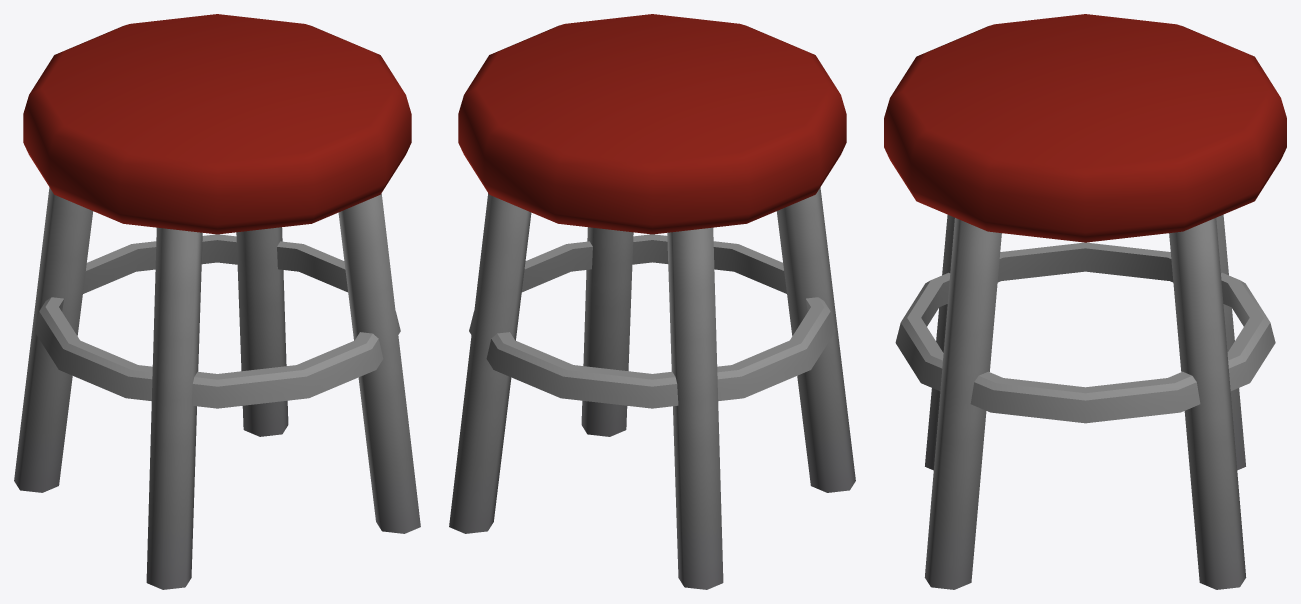
Rendered from Chair_2_F.fbx.
3 views of the same model, side by side, from view 1: azimuth 30°, elevation 25°; view 2: azimuth 150°, elevation 25°; view 3: azimuth 270°, elevation 25° (orthographic). The views are drawn at different scales.
Visible parts, largest first — view 1: Chair_2_F; view 2: Chair_2_F; view 3: Chair_2_F.
Boxes of the visible parts, x1,y1,x2,y2 form: Chair_2_F: (14, 14, 420, 589); Chair_2_F: (449, 14, 855, 589); Chair_2_F: (884, 14, 1286, 589).
Bounding box in the file's own units: 50.02 × 59.1 × 50.04.
